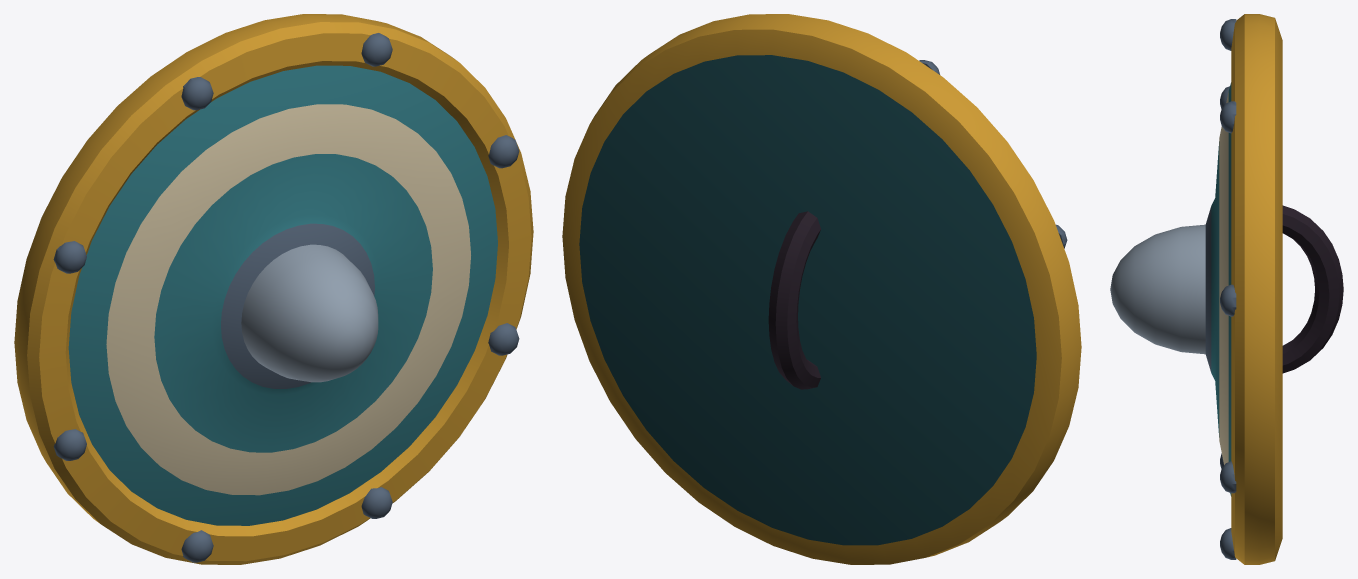
File: RoundShield_13.glb
The picture shows the model from 3 angles, left to right: view 1: azimuth 30°, elevation 25°; view 2: azimuth 150°, elevation 25°; view 3: azimuth 270°, elevation 25°; orthographic projection. The views are drawn at different scales.
Visible parts, largest first — view 1: RoundShield_13; view 2: RoundShield_13; view 3: RoundShield_13.
Boxes of the visible parts, x1,y1,x2,y2 form: RoundShield_13: [14, 14, 533, 564]; RoundShield_13: [562, 14, 1081, 564]; RoundShield_13: [1110, 14, 1343, 564].
Bounding box in the file's own units: 2.89 × 2.89 × 1.22.
